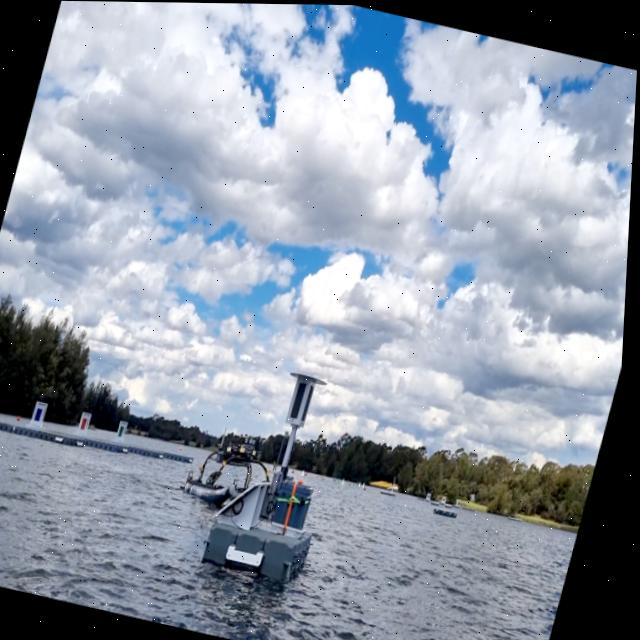led: (291, 376, 314, 422)
